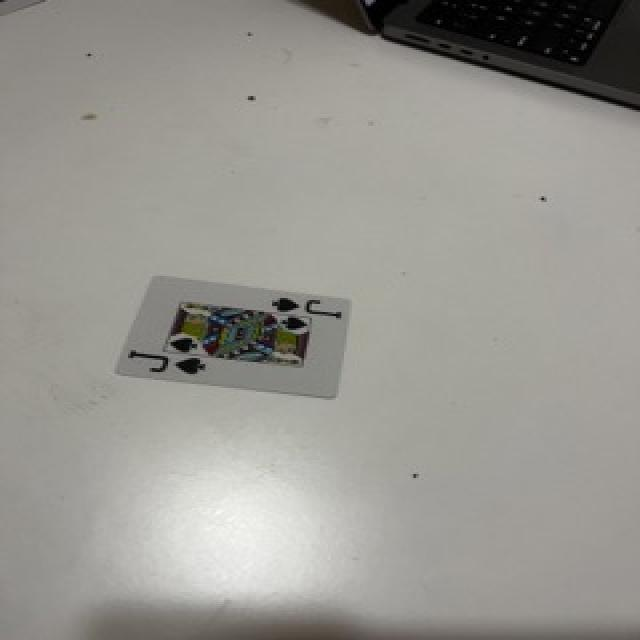Jack of spades: (117, 276, 350, 398)
